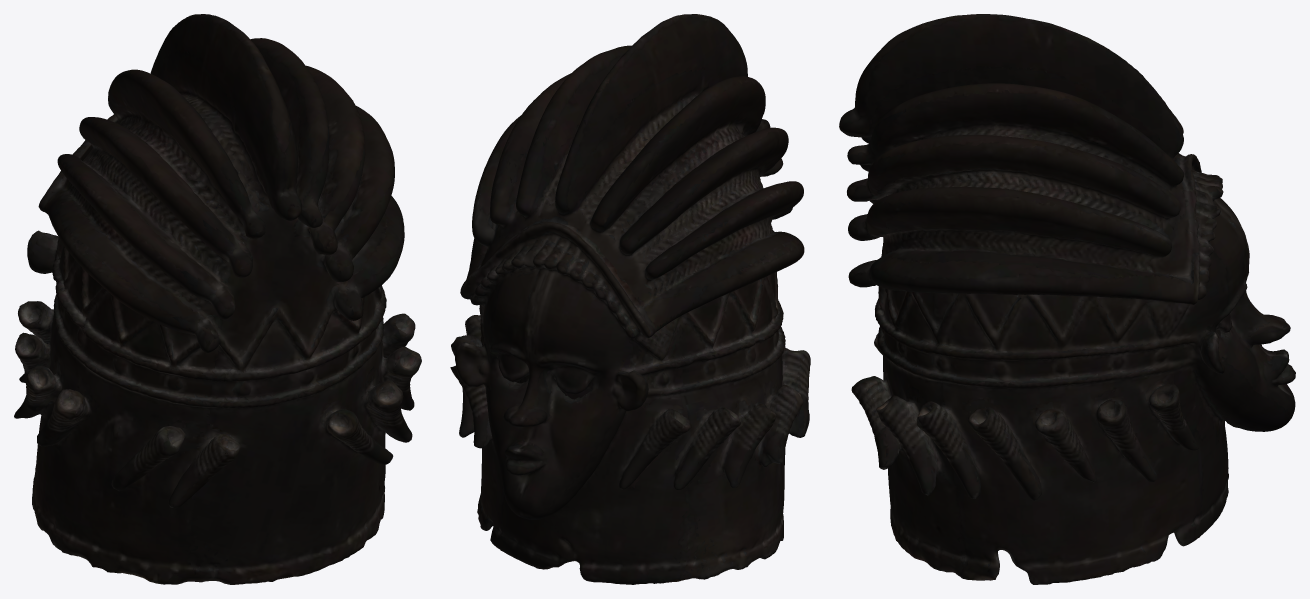
Rendered from preview.glb.
3 renders of one model, left to right at view 1: azimuth 30°, elevation 25°; view 2: azimuth 150°, elevation 25°; view 3: azimuth 270°, elevation 25°, orthographic. The views are drawn at different scales.
Visible parts, largest first — view 1: Object_2; view 2: Object_2; view 3: Object_2.
Boxes of the visible parts, bbox=[...] form: Object_2: bbox=[14, 14, 421, 584]; Object_2: bbox=[450, 14, 810, 584]; Object_2: bbox=[839, 14, 1295, 584].
Bounding box in the file's own units: 276 × 396 × 324.
Materials: 1 (1 with a texture image).
